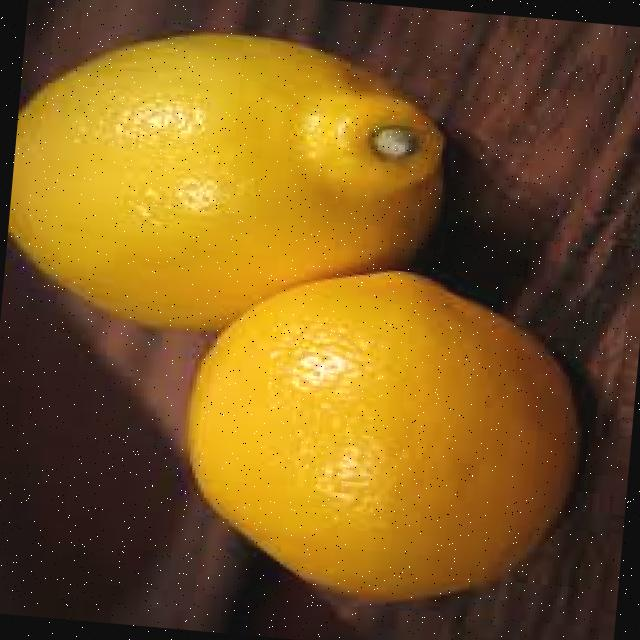Ripe: (0, 14, 469, 360), (166, 250, 597, 624)
